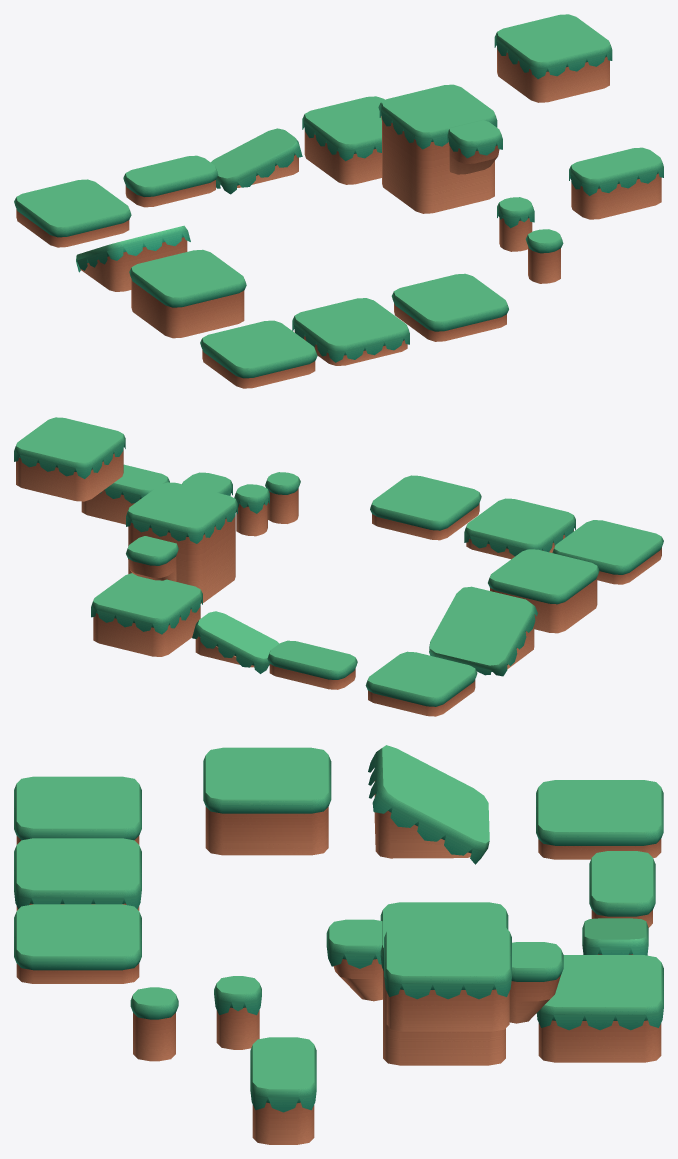
Rendered from level-1.glb.
3 renders of one model, top to bottom at view 1: azimuth 30°, elevation 25°; view 2: azimuth 150°, elevation 25°; view 3: azimuth 270°, elevation 25°, orthographic. The views are drawn at different scales.
Visible parts, largest first — view 1: block-grass-overhang-large-tall, block-grass-overhang-large.001, block-grass-large, block-grass-overhang-large, block-grass-low-large.001, block-grass-low-large.002, block-grass-low-large, block-grass-overhang-low-large, block-grass-overhang-long, block-grass-overhang-large-slope-narrow, block-grass-overhang-large-slope-steep, block-grass-low-long (+3 smaller); view 2: block-grass-overhang-large-tall, block-grass-overhang-large.001, block-grass-overhang-large, block-grass-overhang-large-slope-steep, block-grass-large, block-grass-low-large, block-grass-low-large.002, block-grass-overhang-low-large, block-grass-low-large.001, block-grass-overhang-large-slope-narrow, block-grass-low-long, block-grass-overhang-long (+4 smaller); view 3: block-grass-large, block-grass-overhang-large.001, block-grass-overhang-large, block-grass-overhang-large-slope-steep, block-grass-low-large, block-grass-low-large.002, block-grass-overhang-low-large, block-grass-low-large.001, block-grass-overhang-large-tall, block-grass-overhang-long, block-grass-low-long, block-grass-overhang-edge (+4 smaller).
Part boxes in pixels (x1,y1,x2,y2): block-grass-overhang-large-tall: (379, 84, 497, 213); block-grass-overhang-large.001: (494, 14, 612, 102); block-grass-large: (129, 249, 246, 338); block-grass-overhang-large: (302, 96, 384, 184); block-grass-low-large.001: (200, 320, 317, 388); block-grass-low-large.002: (14, 179, 131, 247); block-grass-low-large: (391, 273, 508, 341); block-grass-overhang-low-large: (292, 298, 409, 365); block-grass-overhang-long: (569, 147, 663, 219); block-grass-overhang-large-slope-narrow: (211, 128, 302, 194); block-grass-overhang-large-slope-steep: (76, 225, 190, 291); block-grass-low-long: (123, 155, 218, 207); block-grass-overhang-large-tall: (126, 482, 237, 603); block-grass-overhang-large.001: (14, 417, 125, 501); block-grass-overhang-large: (91, 573, 202, 656); block-grass-overhang-large-slope-steep: (429, 586, 537, 676); block-grass-large: (488, 549, 599, 633); block-grass-low-large: (370, 475, 481, 540); block-grass-low-large.002: (365, 651, 477, 716); block-grass-overhang-low-large: (464, 498, 575, 559); block-grass-low-large.001: (552, 520, 663, 584); block-grass-overhang-large-slope-narrow: (192, 611, 279, 673); block-grass-low-long: (267, 640, 357, 689); block-grass-overhang-long: (81, 464, 169, 524); block-grass-large: (203, 747, 331, 855); block-grass-overhang-large.001: (384, 924, 511, 1031); block-grass-overhang-large: (536, 955, 663, 1062); block-grass-overhang-large-slope-steep: (368, 745, 489, 864); block-grass-low-large: (14, 904, 141, 983); block-grass-low-large.002: (536, 780, 663, 859); block-grass-overhang-low-large: (14, 838, 141, 910); block-grass-low-large.001: (14, 776, 141, 844); block-grass-overhang-large-tall: (380, 902, 508, 1065); block-grass-overhang-long: (250, 1037, 316, 1144); block-grass-low-long: (589, 851, 655, 927); block-grass-overhang-edge: (326, 919, 382, 1001).
Size of what is drawn, in the model's own units: 13.24 by 3.23 by 10.58.
1 material, 1 textured.
